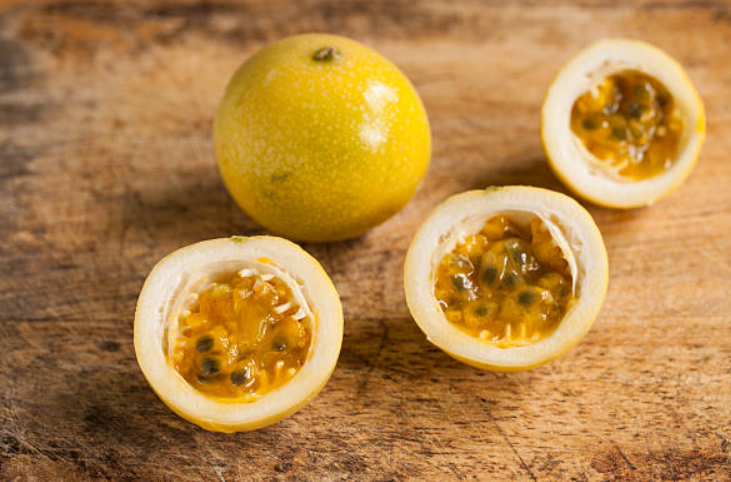maracuya: (201, 27, 438, 251)
